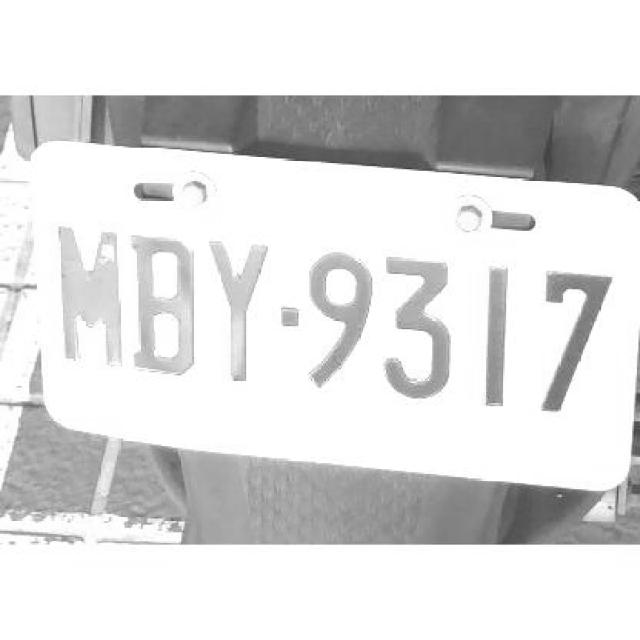-: (277, 305, 298, 326)
1: (482, 255, 509, 411)
3: (380, 246, 454, 403)
7: (538, 269, 616, 417)
9: (300, 243, 375, 389)
B: (126, 234, 199, 378)
M: (52, 222, 123, 364)
Y: (200, 236, 272, 390)
